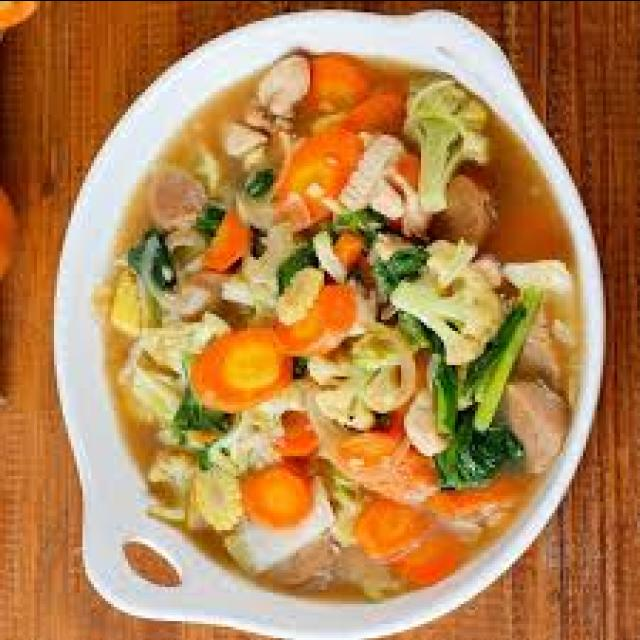capcay: (91, 43, 606, 617)
